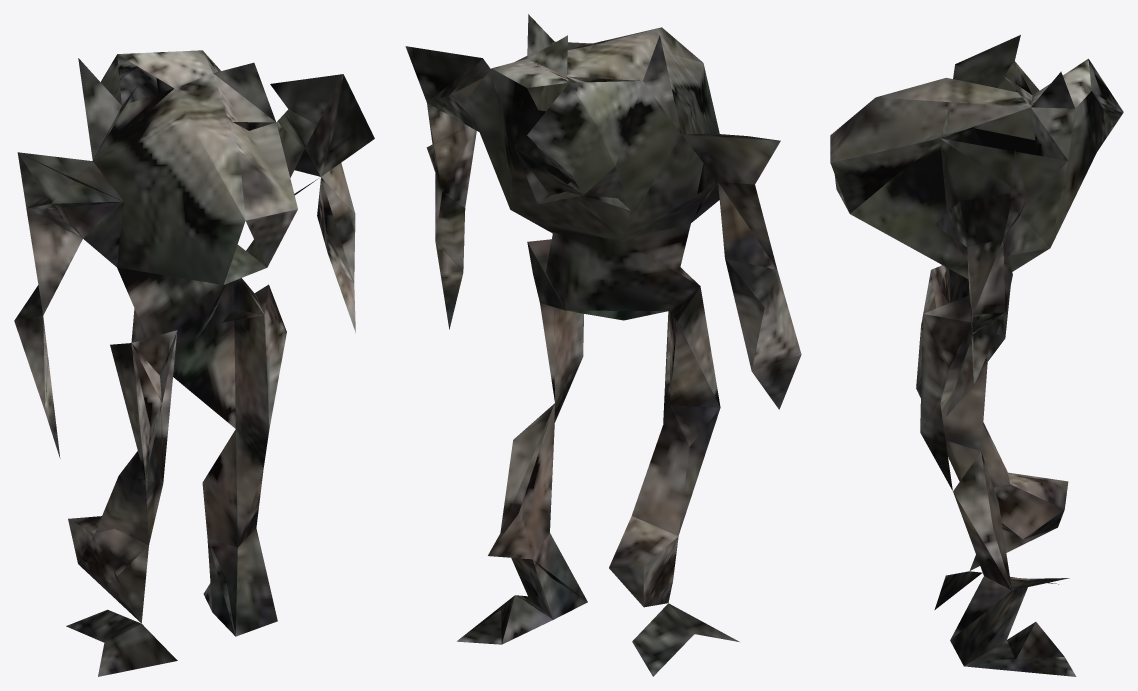
File: mech_894579150_lod1.glb
3 views of the same model, side by side, from view 1: azimuth 30°, elevation 25°; view 2: azimuth 150°, elevation 25°; view 3: azimuth 270°, elevation 25° (orthographic). The views are drawn at different scales.
Bounding box in the file's own units: 3.67 × 6.11 × 2.74.
Materials: 1 (1 with a texture image).
